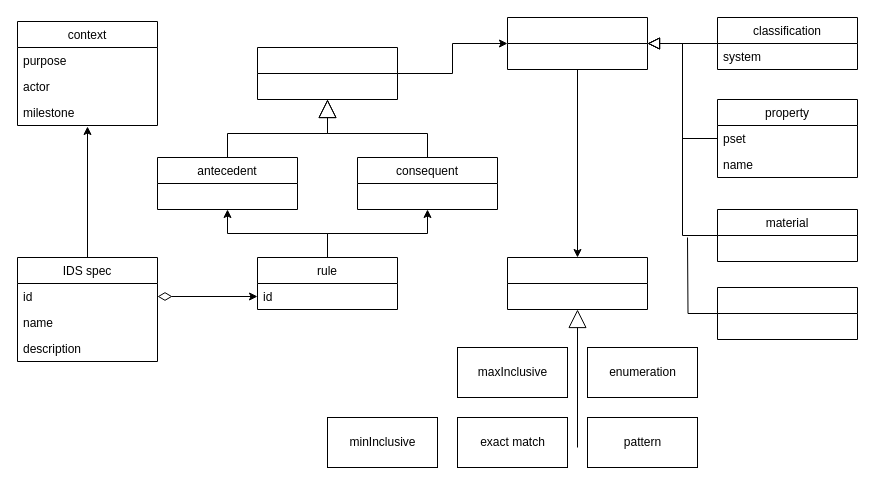
Some shapes in this 875 by 485 pixel diagram are drawn without their labels. The centre of each missing label's shape, as x and y in pixels:
"class" goes at (787,313).
"constraint" goes at (577,283).
"facet" goes at (577,43).
"rule part" goes at (327,73).
